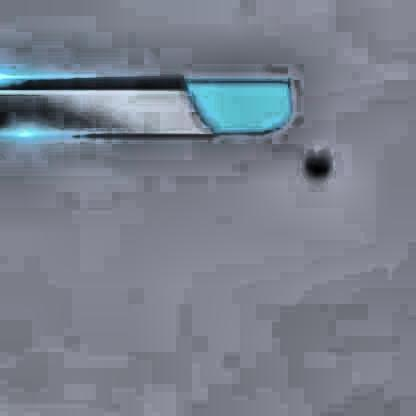golfball: (301, 143, 326, 173)
